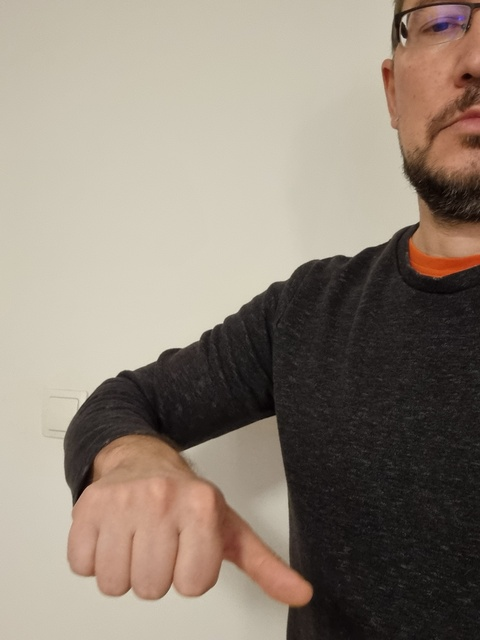GestBack: (68, 474, 312, 607)
